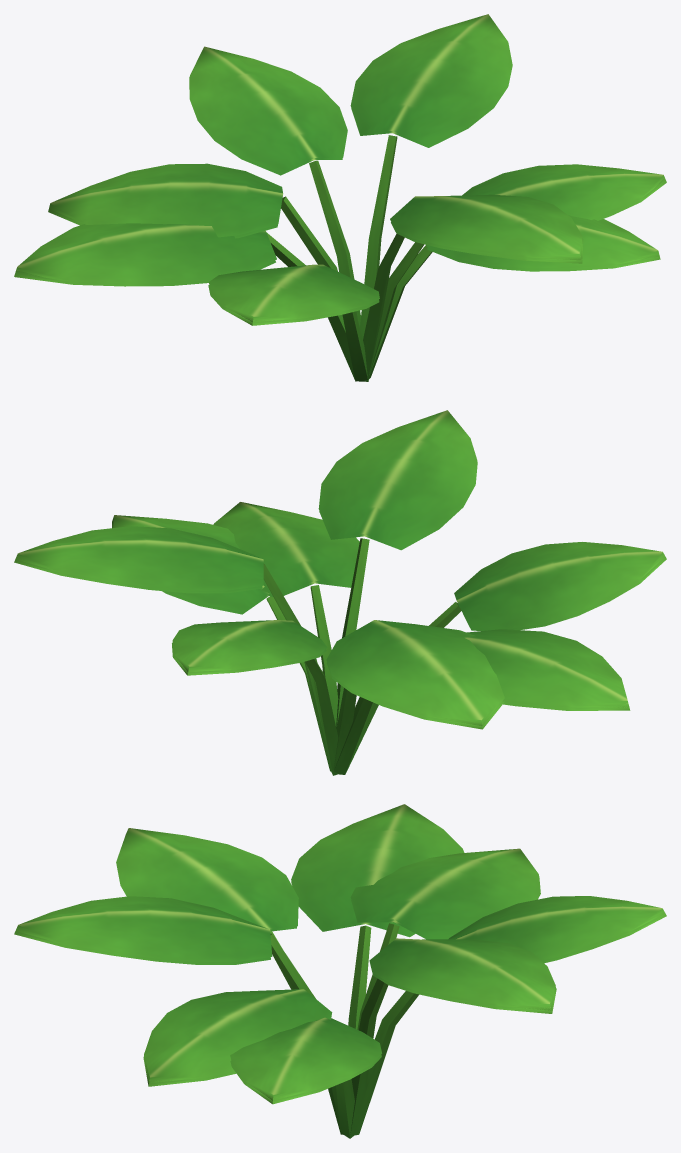
File: Kit_BushB.fbx
3 renders of one model, top to bottom at view 1: azimuth 30°, elevation 25°; view 2: azimuth 150°, elevation 25°; view 3: azimuth 270°, elevation 25°, orthographic. The views are drawn at different scales.
Parts seen in each view (by area): view 1: Kit_BushB; view 2: Kit_BushB; view 3: Kit_BushB.
Part boxes in pixels (box(x1,y1,x2,y2)): Kit_BushB: box(14, 14, 666, 381); Kit_BushB: box(14, 410, 666, 775); Kit_BushB: box(14, 804, 666, 1138).
Bounding box in the file's own units: 9.98 × 3.99 × 9.47.
Materials: 1 (1 with a texture image).
